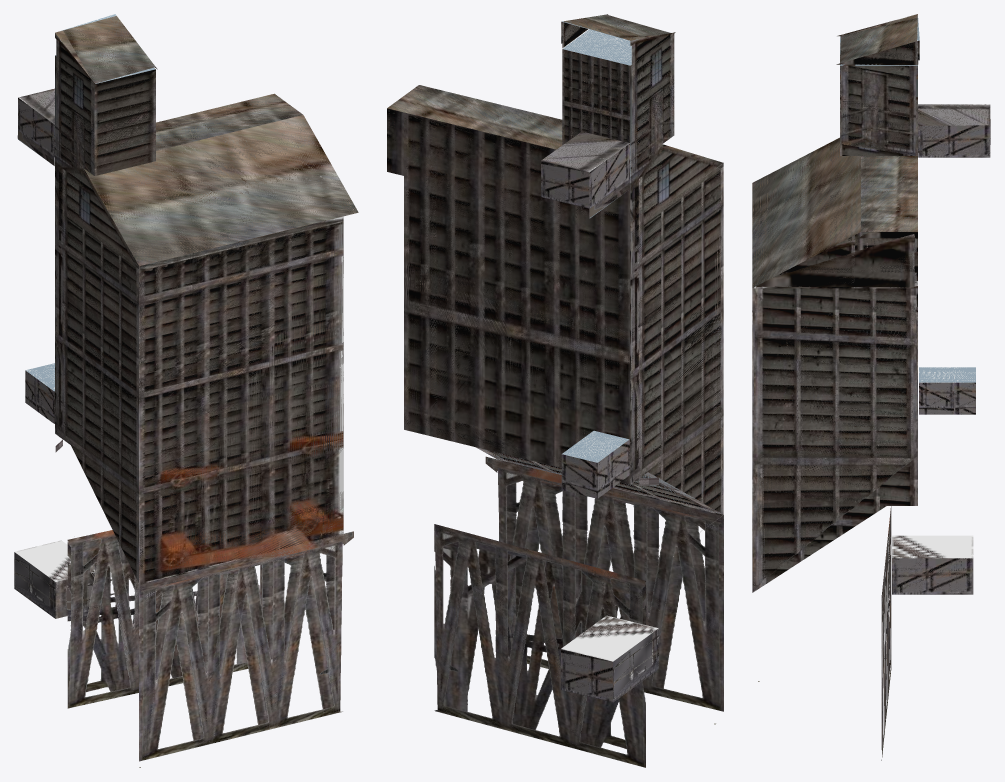
The model's file is Tall Wooden Structure Flopped 2.fbx.
The picture shows the model from 3 angles, left to right: view 1: azimuth 30°, elevation 25°; view 2: azimuth 150°, elevation 25°; view 3: azimuth 270°, elevation 25°; orthographic projection. The views are drawn at different scales.
Parts seen in each view (by area): view 1: Model; view 2: Model; view 3: Model.
Boxes of the visible parts, x1,y1,x2,y2 form: Model: (14, 14, 358, 767); Model: (387, 14, 723, 767); Model: (752, 14, 990, 760).
Size of the model in its own units: 70.69 by 198 by 64.
